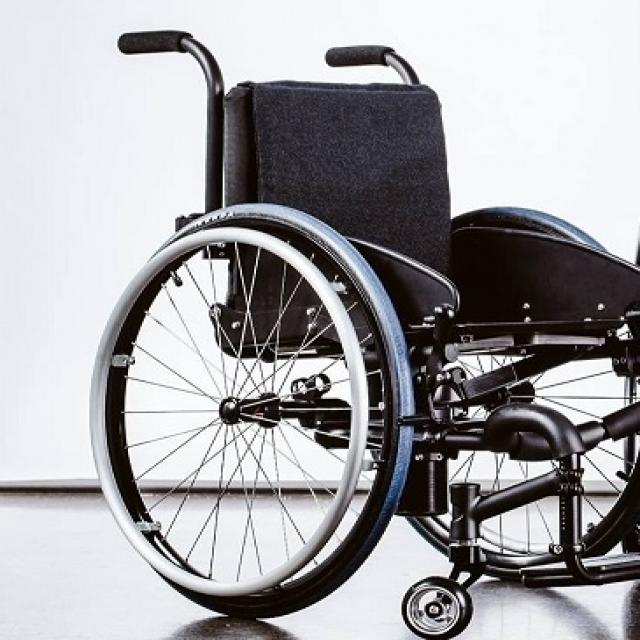wheelchair: (73, 20, 640, 639)
